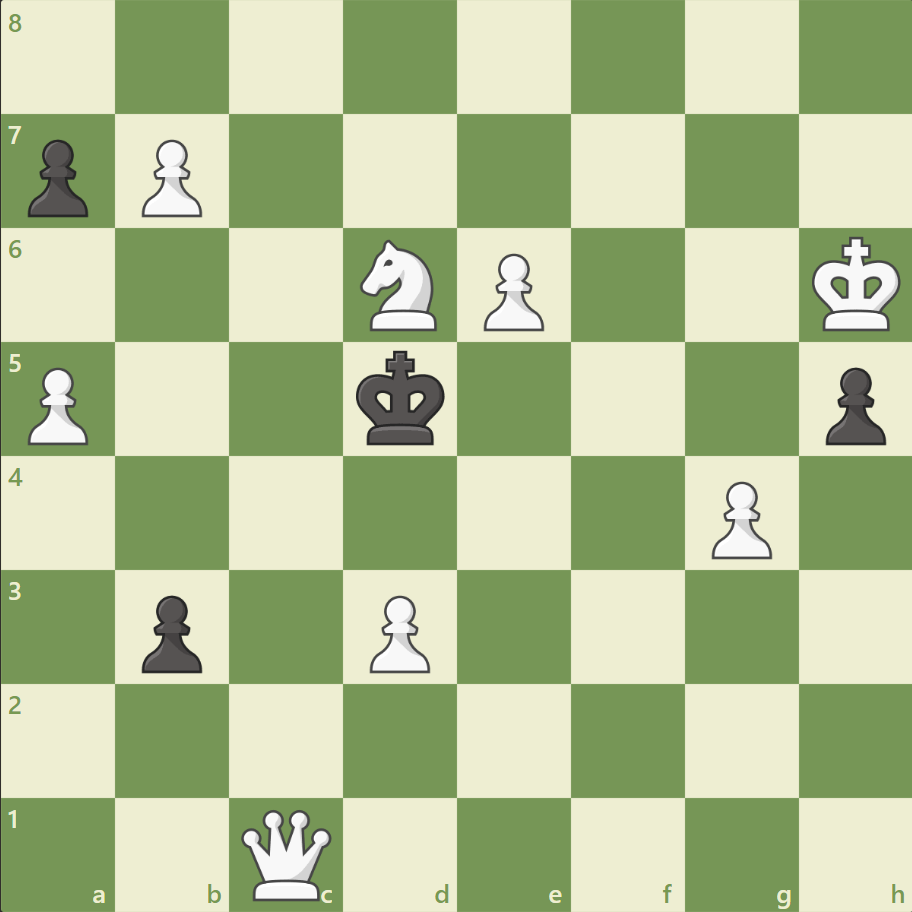K: (806, 231, 906, 339)
N: (351, 234, 449, 337)
P: (133, 132, 208, 223), (474, 246, 549, 337), (20, 359, 95, 450), (701, 473, 776, 564), (361, 586, 435, 677)
Q: (237, 804, 336, 903)
k: (351, 344, 451, 452)
p: (20, 132, 95, 223), (133, 586, 208, 677), (815, 359, 889, 450)
